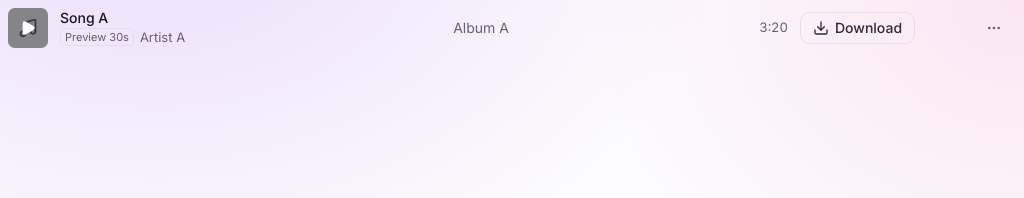
Test: TrackRow status slot — five states, labels from the backend › available: a user's Download says it adds to favorites, and does
Click the button with aria-label "Download Song A and add it to favorites": [858, 28] box [800,12,915,44]
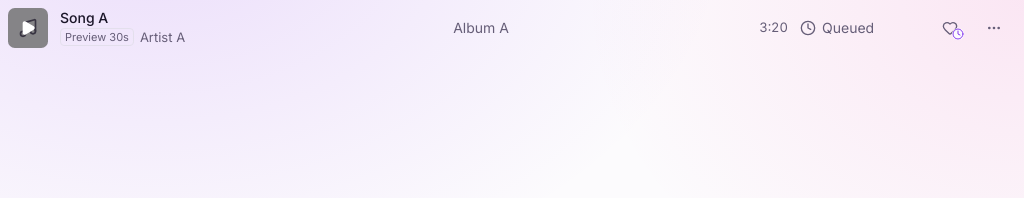
Result: the element titled "Queued" is shown at [800,19,874,36]
